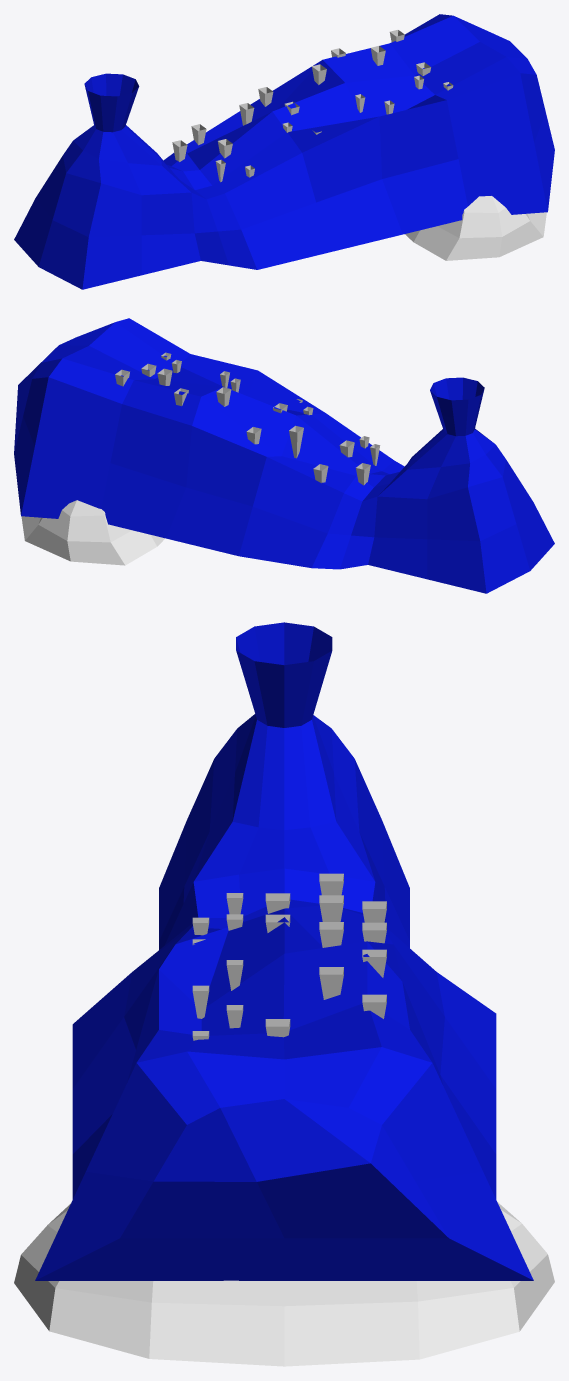
The model's file is cave.glb.
3 views of the same model, one above another, from view 1: azimuth 30°, elevation 25°; view 2: azimuth 150°, elevation 25°; view 3: azimuth 270°, elevation 25° (orthographic). The views are drawn at different scales.
Visible parts, largest first — view 1: Cube, Cube.001, Cube.002; view 2: Cube, Cube.001, Cube.002; view 3: Cube, Cube.001, Cube.002.
Boxes of the visible parts, <box> form: Cube: <box>14,14,554,289</box>; Cube.001: <box>405,196,546,260</box>; Cube.002: <box>172,30,453,182</box>; Cube: <box>14,318,554,593</box>; Cube.001: <box>21,500,164,565</box>; Cube.002: <box>115,352,380,485</box>; Cube: <box>35,622,533,1280</box>; Cube.001: <box>14,1202,554,1366</box>; Cube.002: <box>192,873,386,1040</box>.
Bounding box in the file's own units: 255 × 97.28 × 133.
